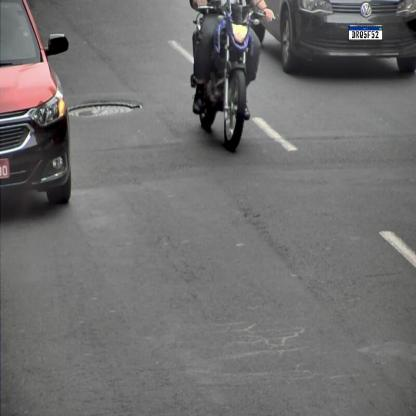PlacaM: (348, 27, 383, 40)
